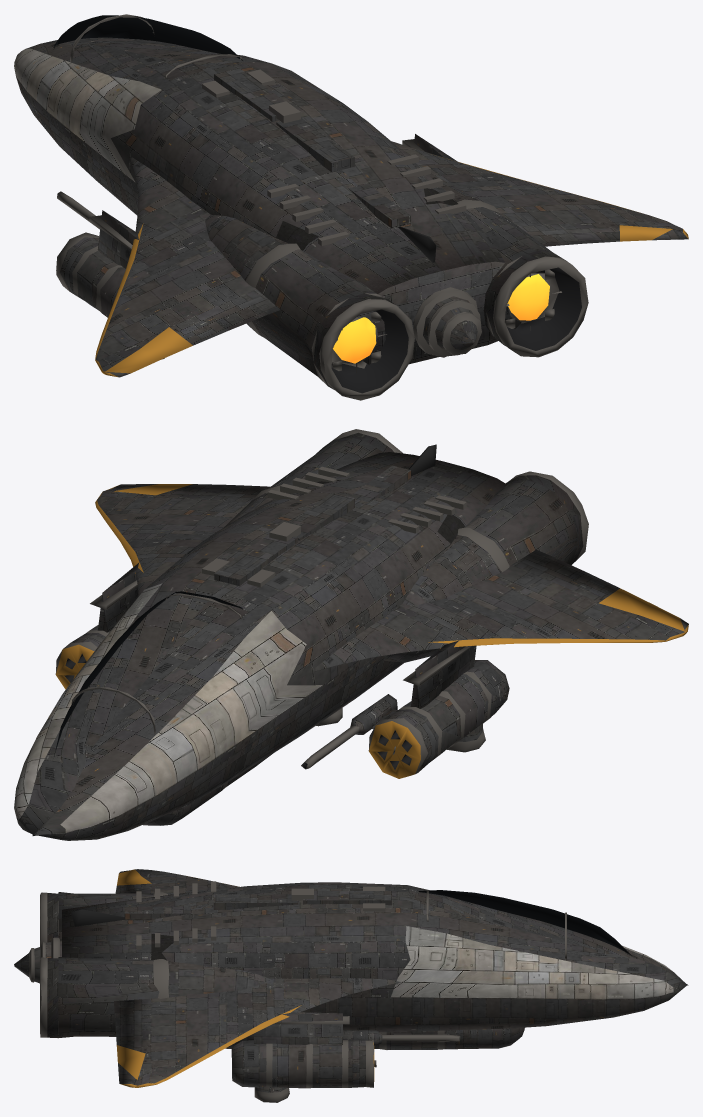
File: baklan_lod1.glb
3 views of the same model, one above another, from view 1: azimuth 30°, elevation 25°; view 2: azimuth 150°, elevation 25°; view 3: azimuth 270°, elevation 25° (orthographic). The views are drawn at different scales.
Parts seen in each view (by area): view 1: Hull, Wing_L, MainNozzle_L, MainNozzle_R, Wing_R, Pod_L, Canopy; view 2: Hull, Wing_L, MainNozzle_L, Pod_L, Wing_R, Pod_R, MainNozzle_R, Canopy, Guns, Tank; view 3: Hull, Wing_R, MainNozzle_R, Pod_R, Canopy, Tank, MainNozzle_L, Wing_L, Guns, LiftEngine_R.
Boxes of the visible parts, x1=… form: Hull: x1=14, y1=37, x2=521, y2=364; Wing_L: x1=95, y1=157, x2=280, y2=377; MainNozzle_L: x1=205, y1=214, x2=414, y2=400; MainNozzle_R: x1=428, y1=173, x2=588, y2=357; Wing_R: x1=391, y1=141, x2=688, y2=246; Pod_L: x1=56, y1=210, x2=138, y2=317; Canopy: x1=53, y1=14, x2=242, y2=78; Hull: x1=14, y1=444, x2=506, y2=840; Wing_L: x1=312, y1=549, x2=688, y2=672; MainNozzle_L: x1=383, y1=471, x2=588, y2=662; Pod_L: x1=368, y1=640, x2=509, y2=778; Wing_R: x1=95, y1=484, x2=270, y2=596; Pod_R: x1=55, y1=563, x2=138, y2=689; MainNozzle_R: x1=223, y1=429, x2=403, y2=527; Canopy: x1=54, y1=591, x2=242, y2=756; Guns: x1=301, y1=694, x2=397, y2=769; Tank: x1=143, y1=754, x2=271, y2=825; Hull: x1=14, y1=881, x2=688, y2=1032; Wing_R: x1=114, y1=978, x2=399, y2=1087; MainNozzle_R: x1=40, y1=957, x2=269, y2=1038; Pod_R: x1=231, y1=1012, x2=376, y2=1088; Canopy: x1=418, y1=890, x2=631, y2=959; Tank: x1=225, y1=1027, x2=524, y2=1049; MainNozzle_L: x1=40, y1=891, x2=172, y2=946; Wing_L: x1=115, y1=869, x2=239, y2=894; Guns: x1=343, y1=1030, x2=459, y2=1045; LiftEngine_R: x1=254, y1=1086, x2=289, y2=1102.
Size of the model in its own units: 10.79 by 3.79 by 14.2.
8 materials, 3 textured.
